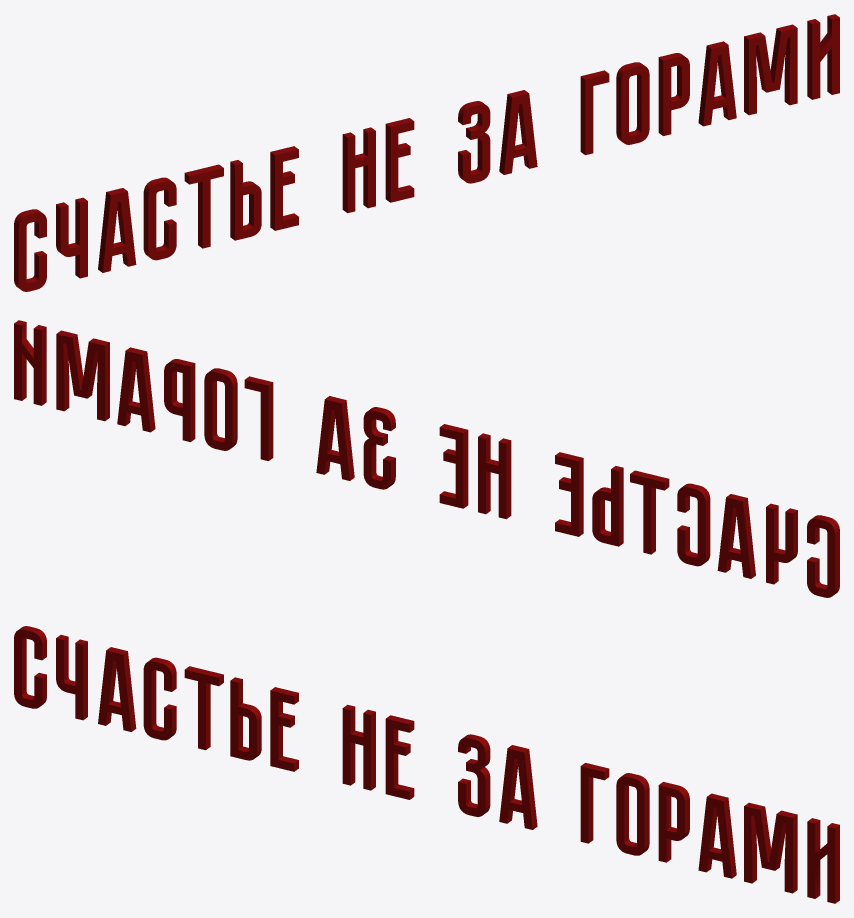
File: happiness.glb
3 views of the same model, one above another, from view 1: azimuth 30°, elevation 25°; view 2: azimuth 150°, elevation 25°; view 3: azimuth 330°, elevation 25° (orthographic).
Parts seen in each view (by area): view 1: Text001; view 2: Text001; view 3: Text001.
Boxes of the visible parts, <box> form: Text001: <box>14,14,839,291</box>; Text001: <box>14,320,839,597</box>; Text001: <box>14,626,839,903</box>.
Bounding box in the file's own units: 3.86 × 0.3452 × 0.0389.
